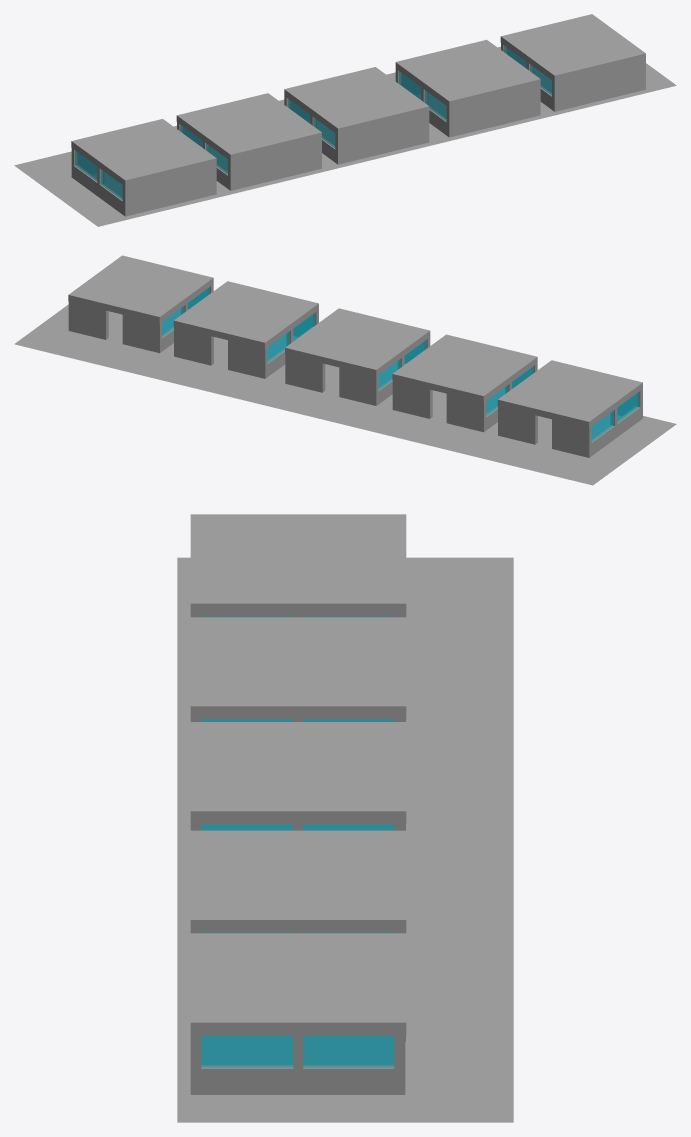
File: classrooms.fbx
The picture shows the model from 3 angles, top to bottom: view 1: azimuth 30°, elevation 25°; view 2: azimuth 150°, elevation 25°; view 3: azimuth 270°, elevation 25°; orthographic projection. The views are drawn at different scales.
Visible parts, largest first — view 1: pCube1 (×5), pPlane3, pCube3 (×5); view 2: pCube1 (×5), pPlane3, pCube3 (×5); view 3: pCube1 (×5), pPlane3, pCube4 (×2).
Boxes of the visible parts, left/top/right/bottom form: pCube1 (×5): left=71, top=14, right=645, bottom=216; pPlane3: left=14, top=46, right=676, bottom=226; pCube3 (×5): left=74, top=45, right=551, bottom=200; pCube1 (×5): left=68, top=255, right=642, bottom=457; pPlane3: left=14, top=304, right=676, bottom=485; pCube3 (×5): left=162, top=287, right=639, bottom=441; pCube1 (×5): left=190, top=514, right=406, bottom=1094; pPlane3: left=177, top=557, right=513, bottom=1122; pCube4 (×2): left=201, top=824, right=394, bottom=1067.
Size of the model in its own units: 127 by 7.66 by 31.95.
